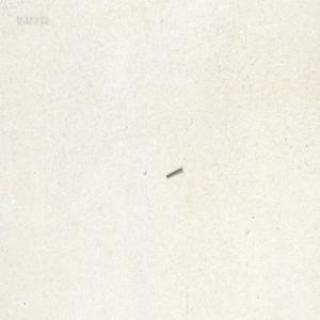Bolttrack_idkeyframe: (164, 162, 182, 174)
